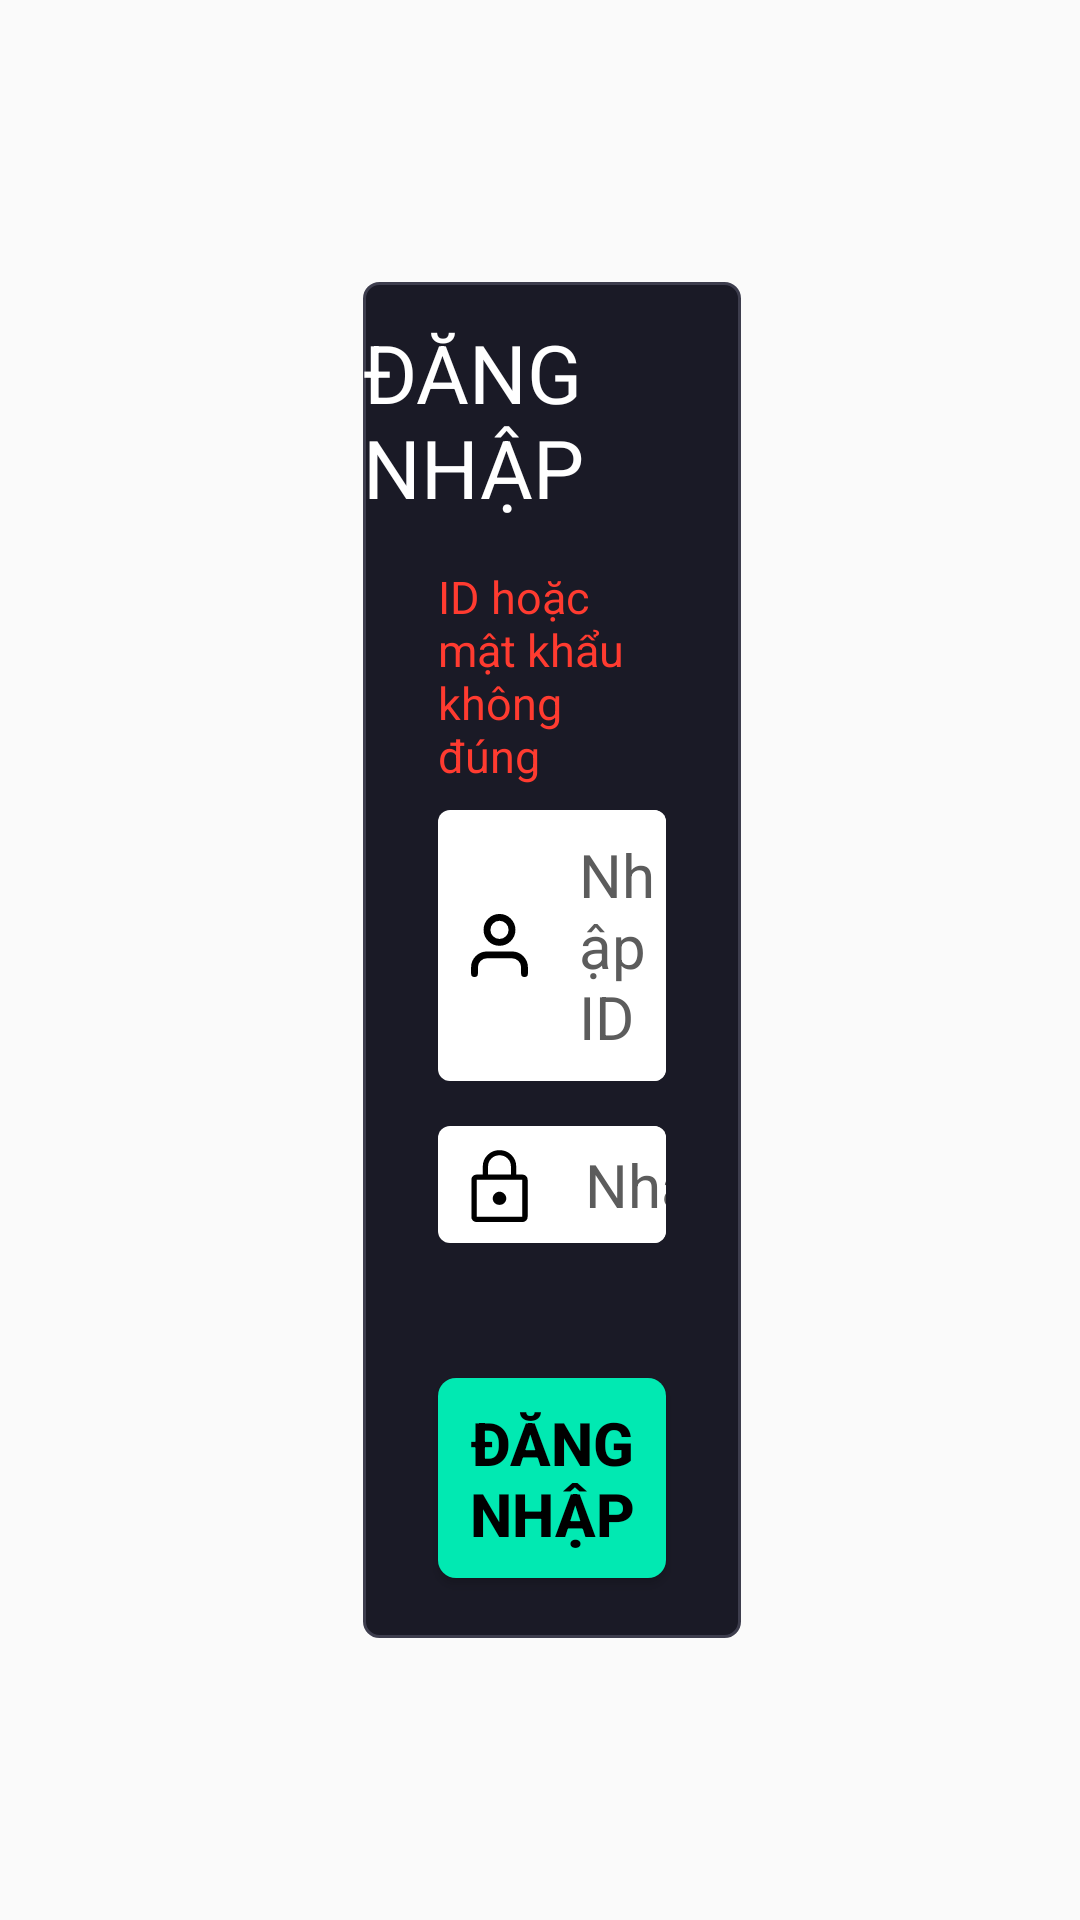

Point at icon controls on the screen. Image size 1080*1920, points as (x,y).
password: (499,1186)
user: (499,945)
